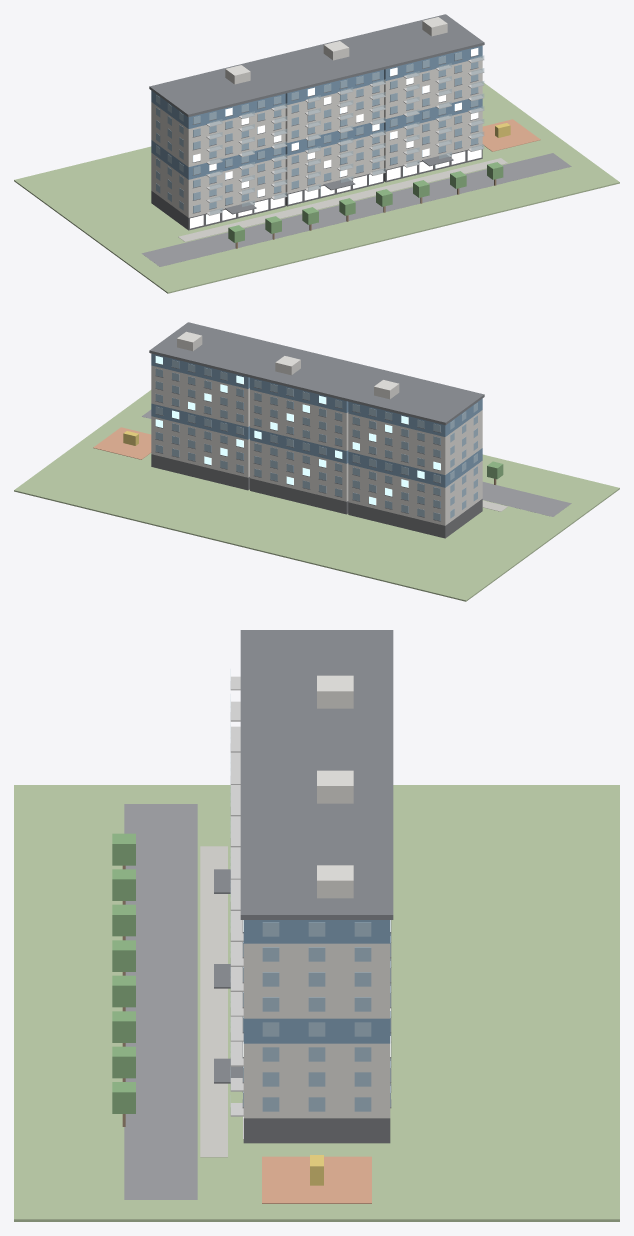
The model's file is building-b.glb.
3 renders of one model, top to bottom at view 1: azimuth 30°, elevation 25°; view 2: azimuth 150°, elevation 25°; view 3: azimuth 270°, elevation 25°, orthographic. The views are drawn at different scales.
Size of the model in its own units: 112 by 30 by 66.
